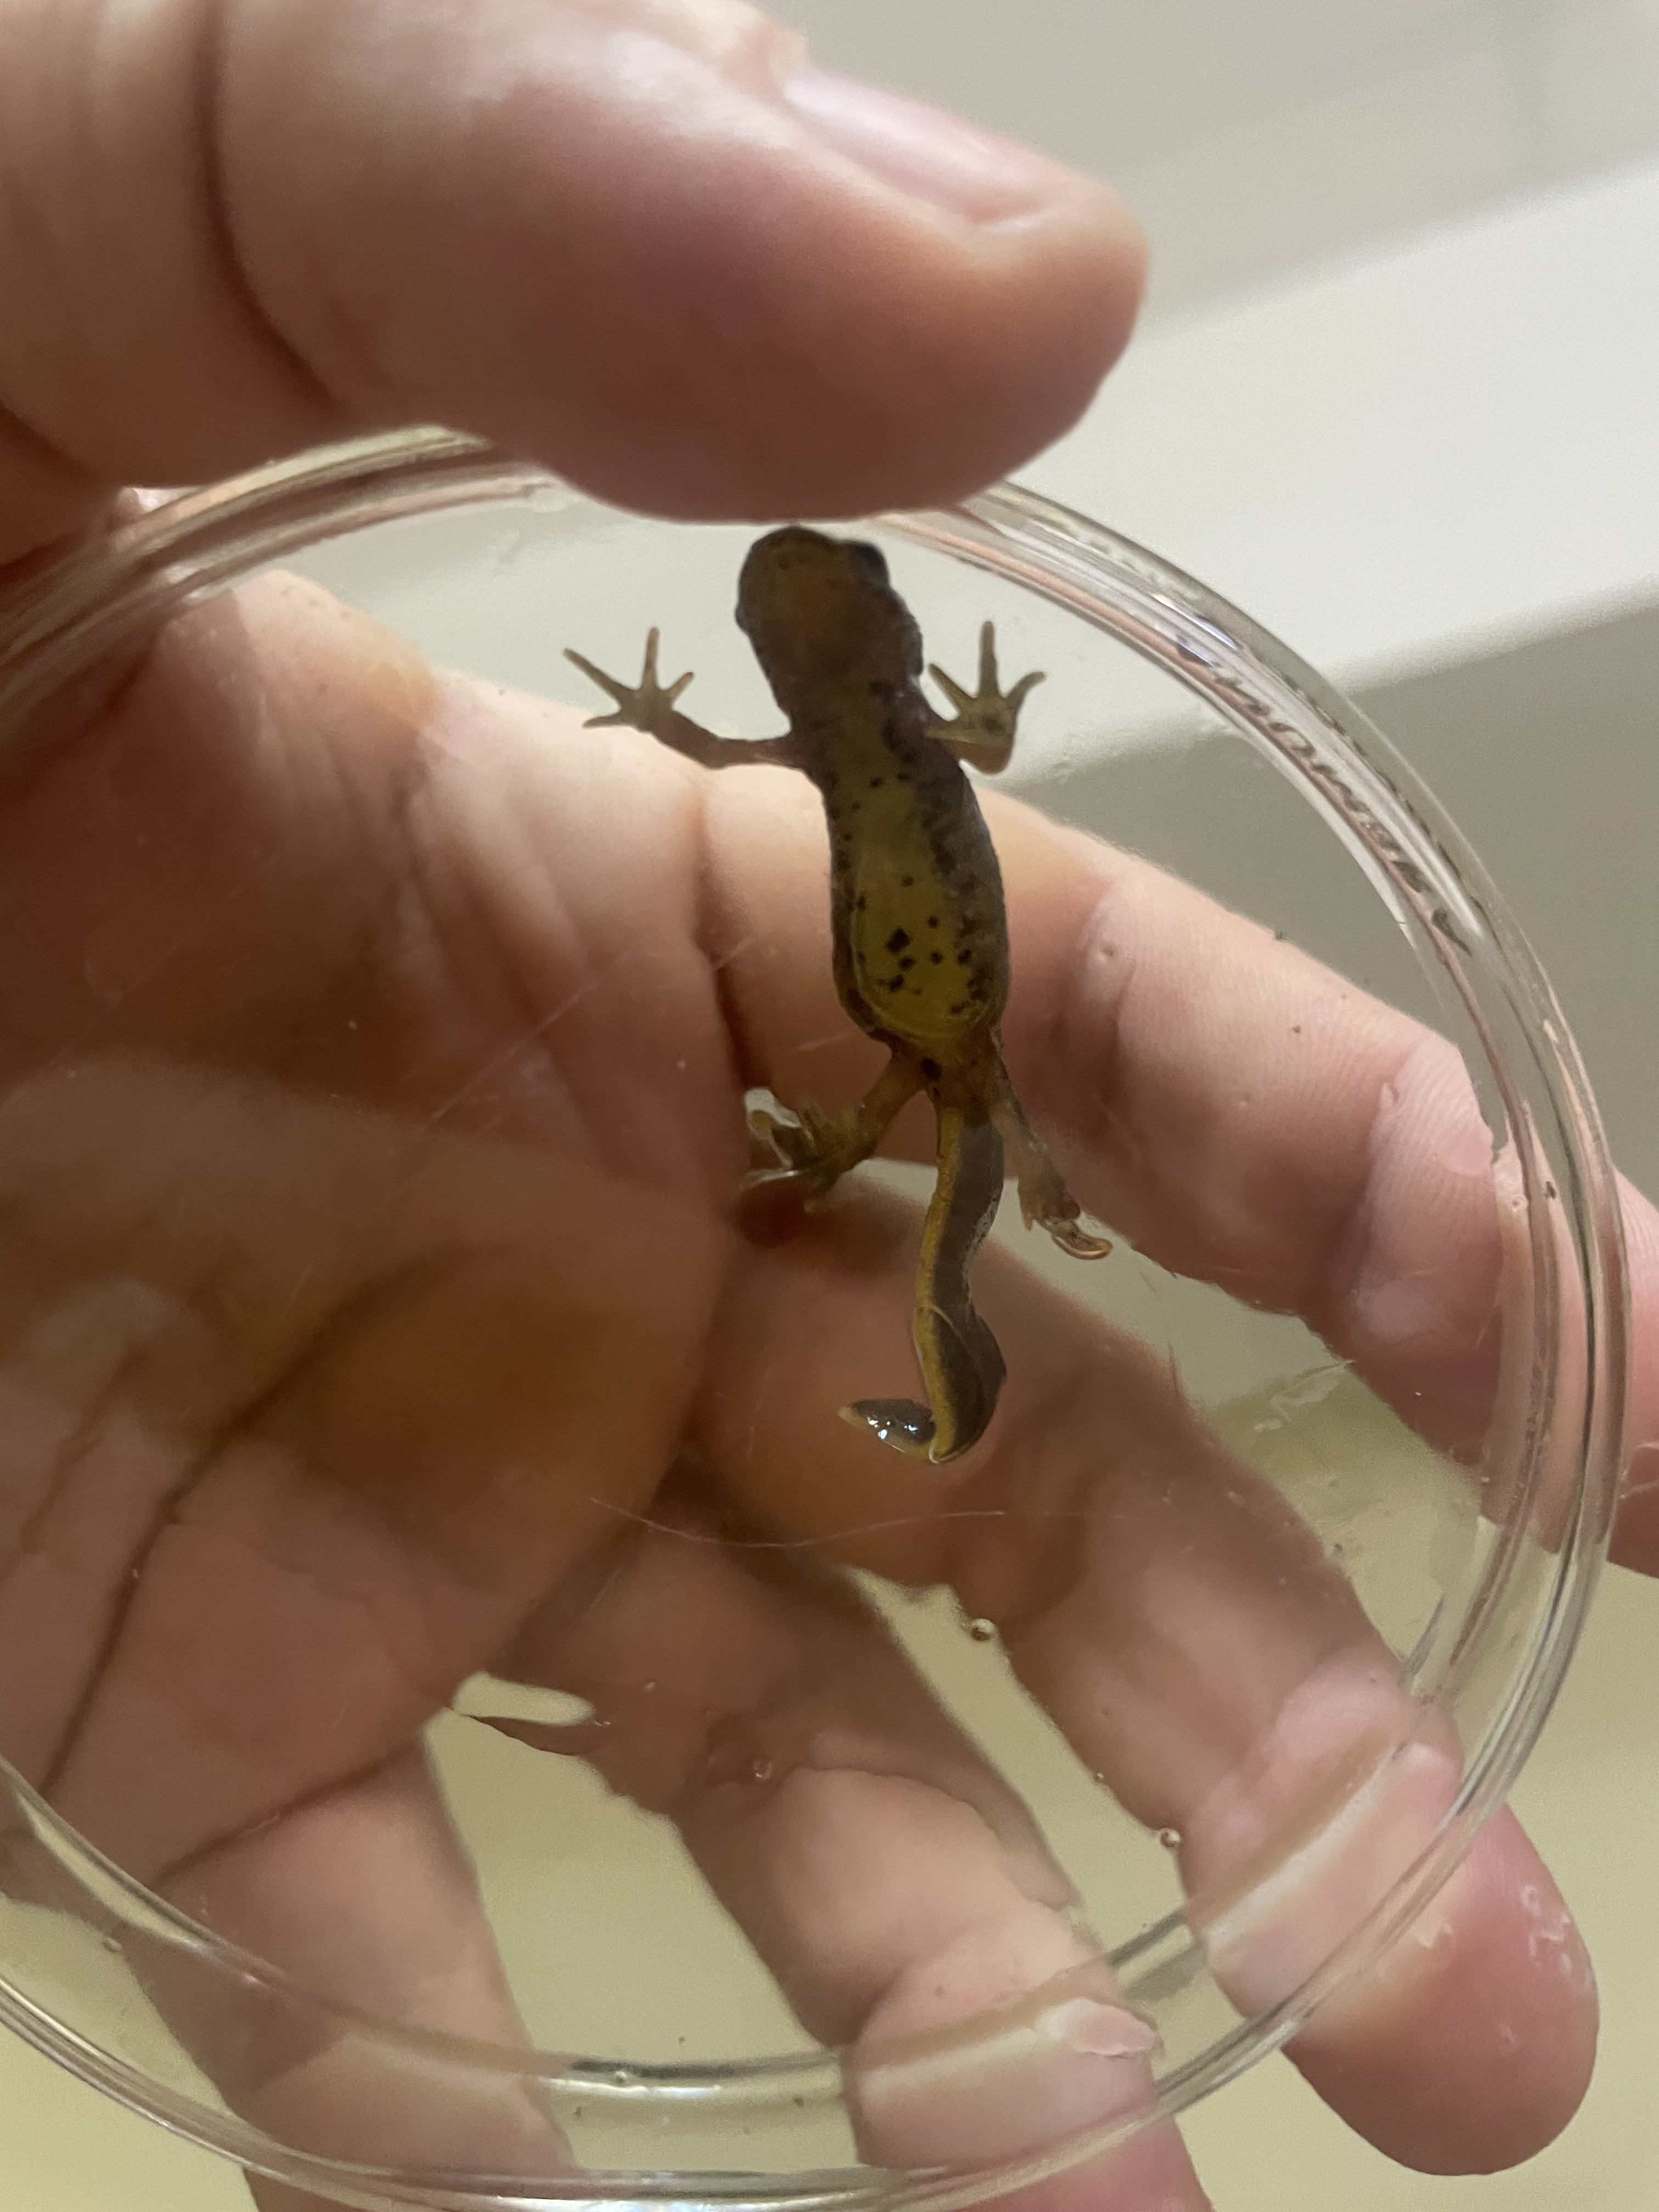Karelin_newt: (805, 758, 1011, 1047)
